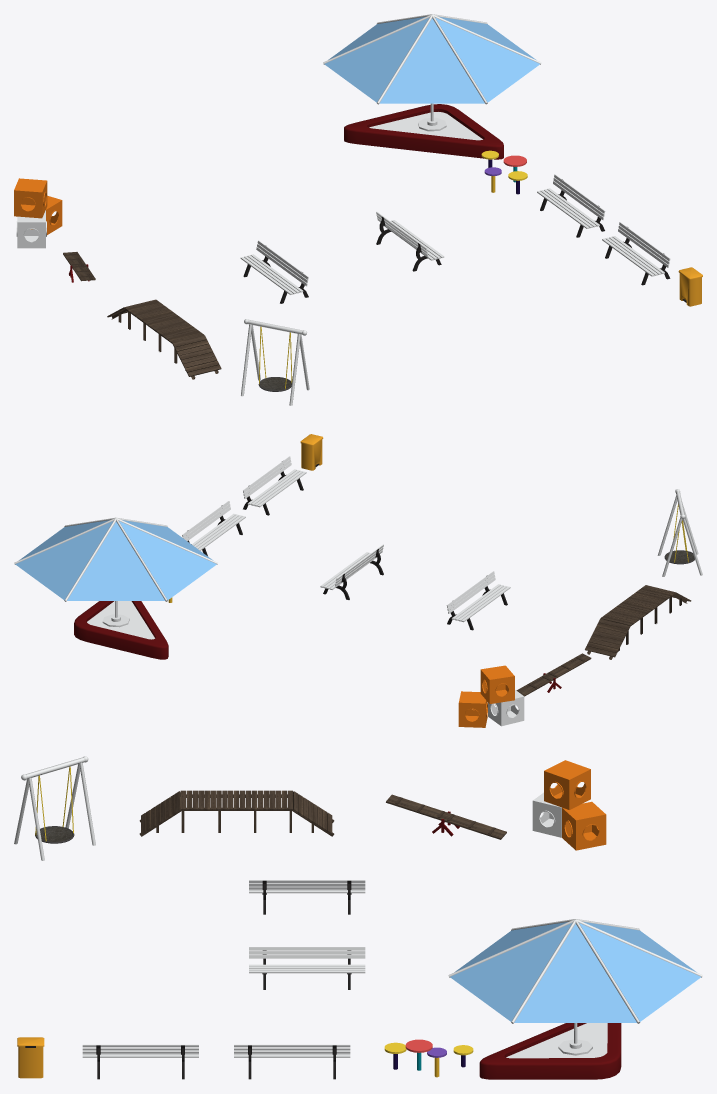
File: M_Pzawu.FBX
The picture shows the model from 3 angles, top to bottom: view 1: azimuth 30°, elevation 25°; view 2: azimuth 150°, elevation 25°; view 3: azimuth 270°, elevation 25°; orthographic projection. The views are drawn at different scales.
Parts seen in each view (by area): view 1: M_Pzawu_03, M_Pzawu_01, M_Pzawu_06, M_Pzawu_04, M_Pzawu_02; view 2: M_Pzawu_03, M_Pzawu_01, M_Pzawu_06, M_Pzawu_04, M_Pzawu_02; view 3: M_Pzawu_03, M_Pzawu_01, M_Pzawu_06, M_Pzawu_04, M_Pzawu_02.
Part boxes in pixels (x1,y1,x2,y2): M_Pzawu_03: (324,16,539,103); M_Pzawu_01: (14,104,702,405); M_Pzawu_06: (240,174,670,294); M_Pzawu_04: (63,252,221,379); M_Pzawu_02: (243,14,670,303); M_Pzawu_03: (15,520,216,600); M_Pzawu_01: (74,434,702,727); M_Pzawu_06: (182,456,510,622); M_Pzawu_04: (516,585,691,696); M_Pzawu_02: (14,461,507,630); M_Pzawu_03: (450,922,700,1022); M_Pzawu_01: (14,756,621,1079); M_Pzawu_06: (82,880,365,1057); M_Pzawu_04: (139,790,506,839); M_Pzawu_02: (96,880,702,1079).
Size of the model in its own units: 20.64 by 5.17 by 20.65.
